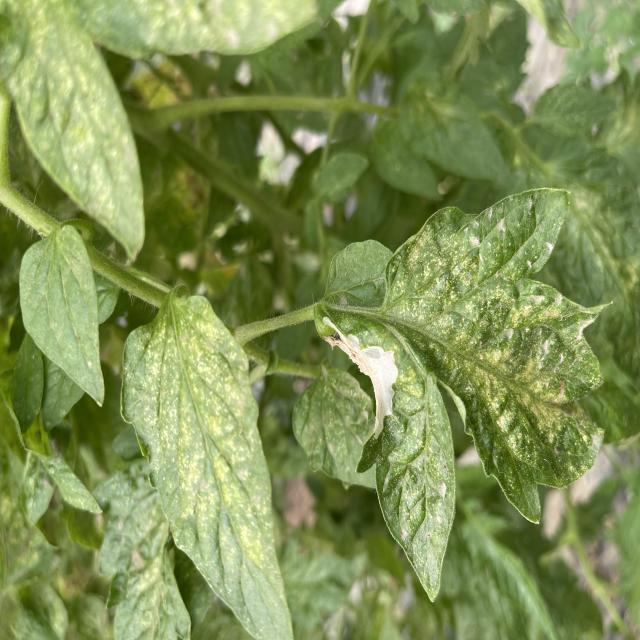Tuta absoluta: (316, 296, 425, 438)
